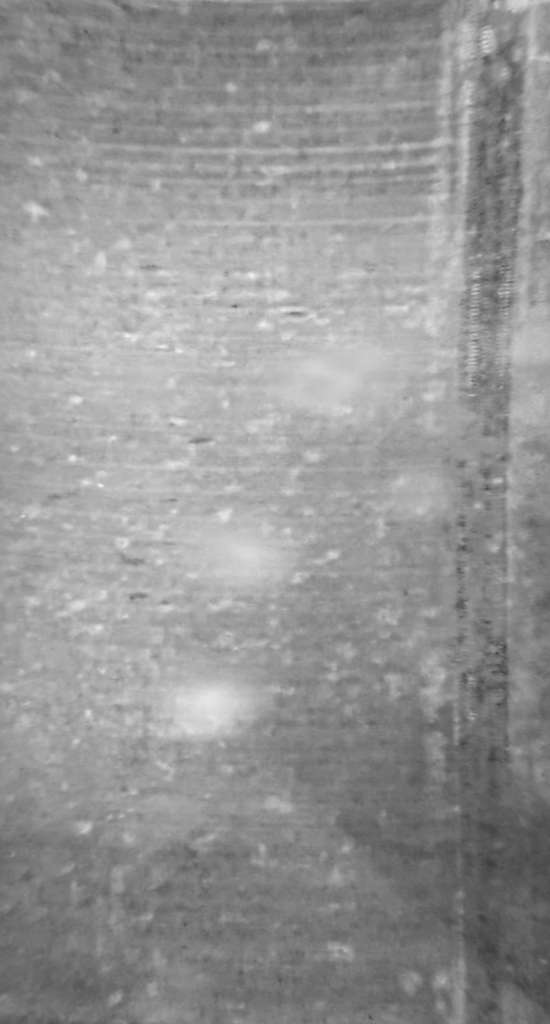splice: (443, 1, 541, 1024)
